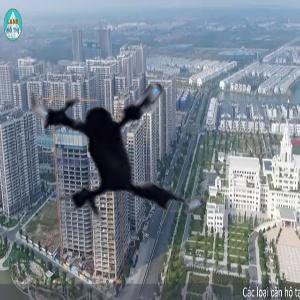drone: (10, 27, 240, 257)
